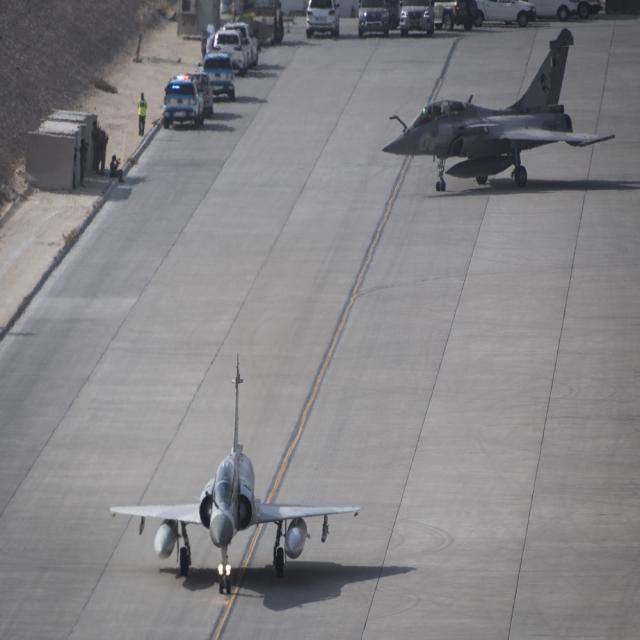MIL_Plane: (110, 351, 362, 594), (381, 58, 616, 162)
